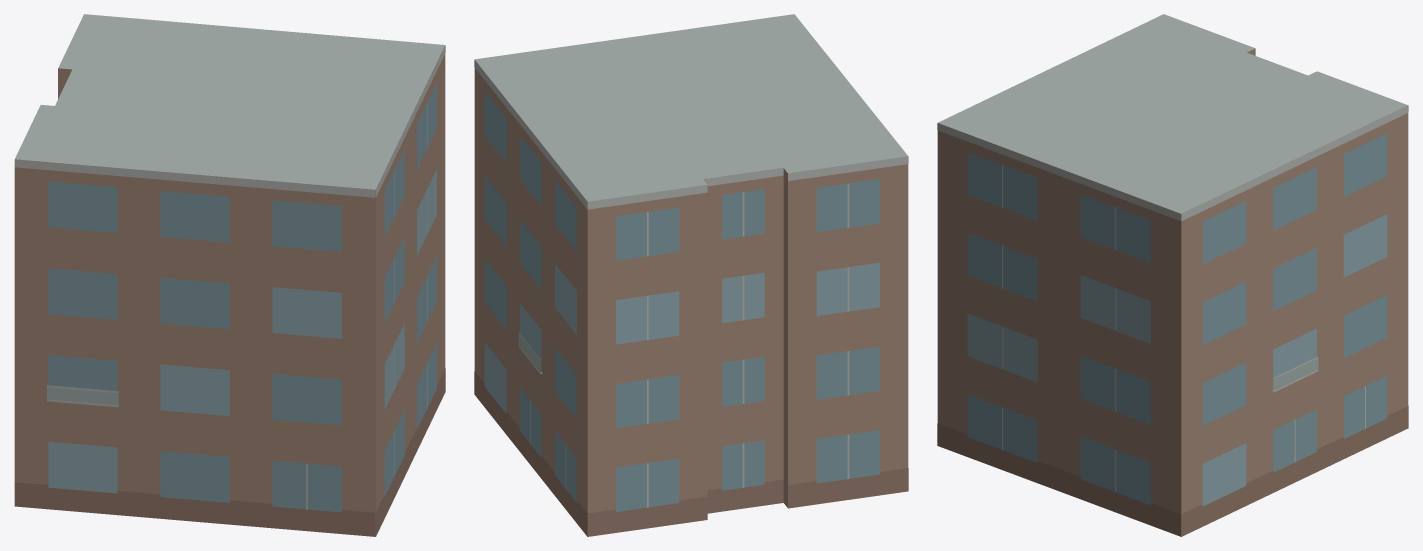
The model's file is survey-upis-32908321.glb.
3 renders of one model, left to right at view 1: azimuth 30°, elevation 25°; view 2: azimuth 150°, elevation 25°; view 3: azimuth 270°, elevation 25°, orthographic. The views are drawn at different scales.
Visible parts, largest first — view 1: survey-upis-32908321.tmp; view 2: survey-upis-32908321.tmp; view 3: survey-upis-32908321.tmp.
Part boxes in pixels (box(x1,y1,x2,y2)): survey-upis-32908321.tmp: box(14, 14, 445, 536); survey-upis-32908321.tmp: box(474, 14, 908, 536); survey-upis-32908321.tmp: box(937, 14, 1408, 536).
Bounding box in the file's own units: 14 × 10.54 × 13.93.
